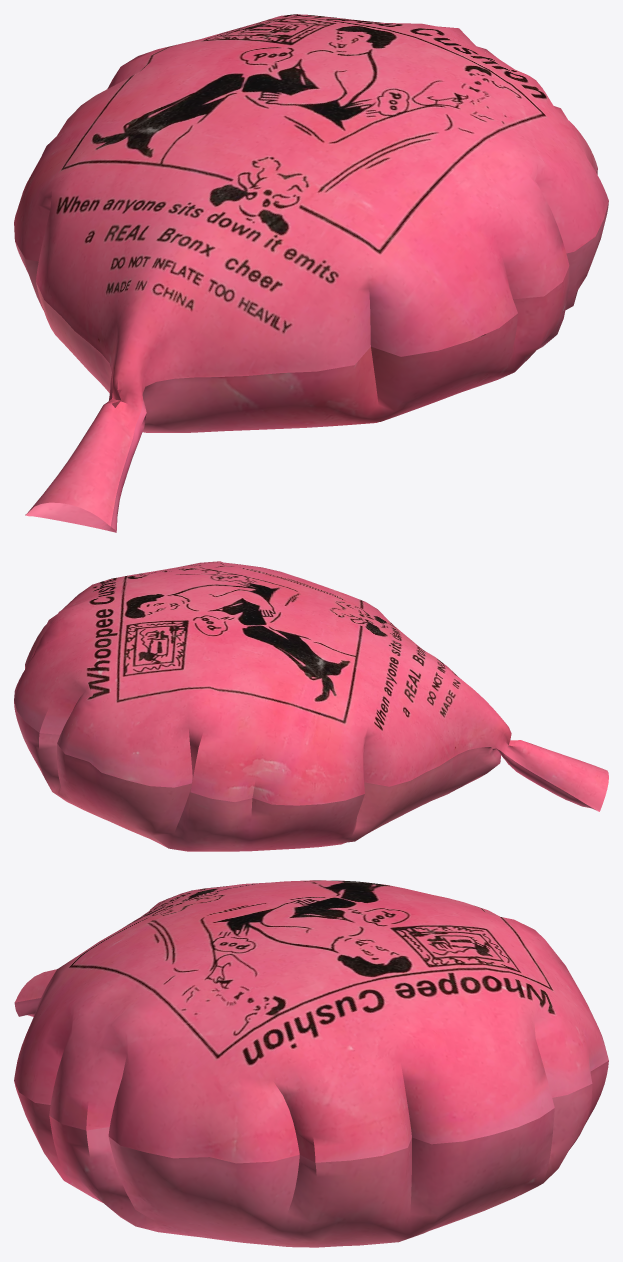
3 renders of one model, top to bottom at view 1: azimuth 30°, elevation 25°; view 2: azimuth 150°, elevation 25°; view 3: azimuth 270°, elevation 25°, orthographic. The views are drawn at different scales.
Parts seen in each view (by area): view 1: Whoopee_1; view 2: Whoopee_1; view 3: Whoopee_1.
Part boxes in pixels (x1=…): Whoopee_1: x1=14, y1=14, x2=608, y2=532; Whoopee_1: x1=14, y1=561, x2=608, y2=851; Whoopee_1: x1=14, y1=880, x2=608, y2=1247.
Bounding box in the file's own units: 3.12 × 1.24 × 2.49.
Materials: 1 (1 with a texture image).
